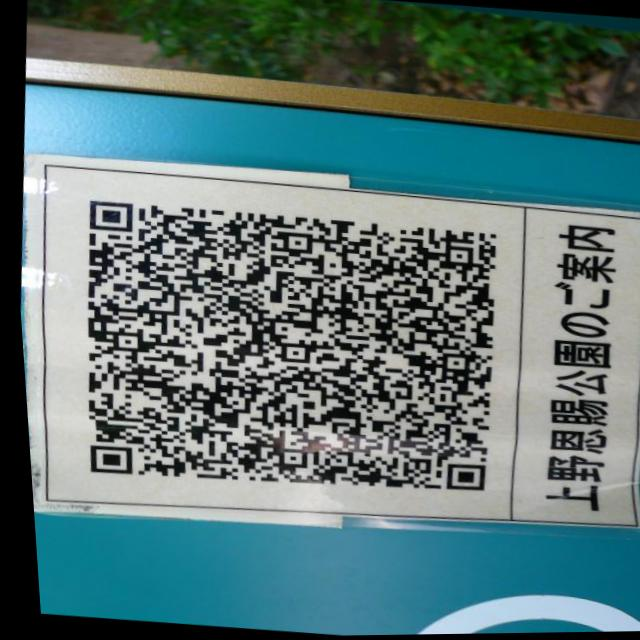qrcode: (65, 197, 507, 506)
